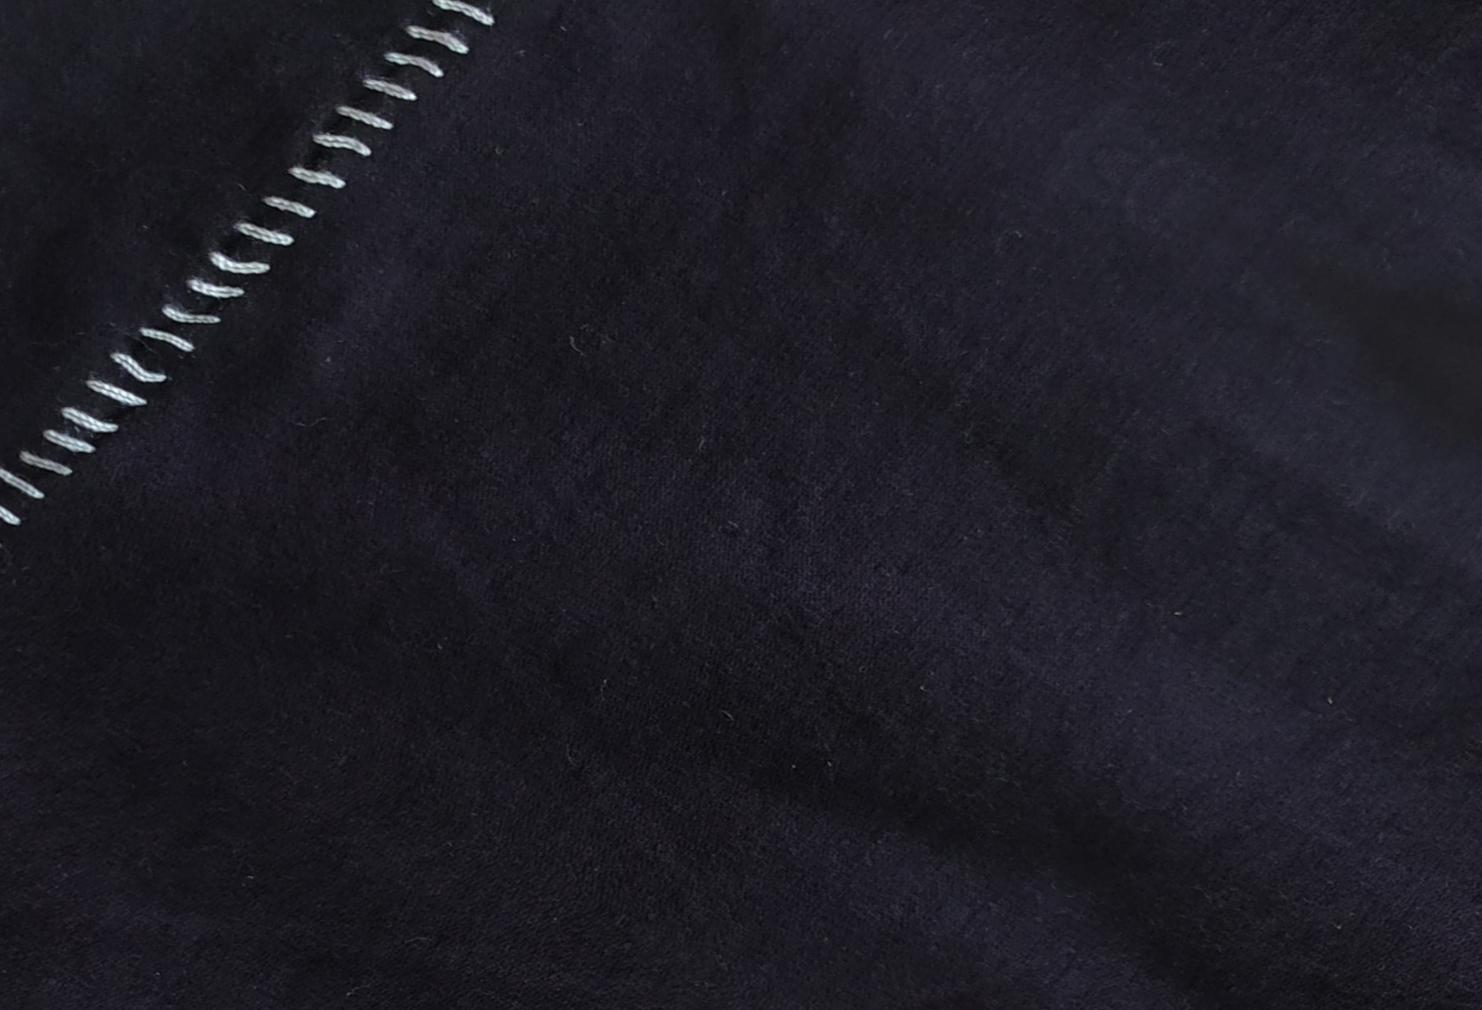slub: (0, 0, 507, 535)
